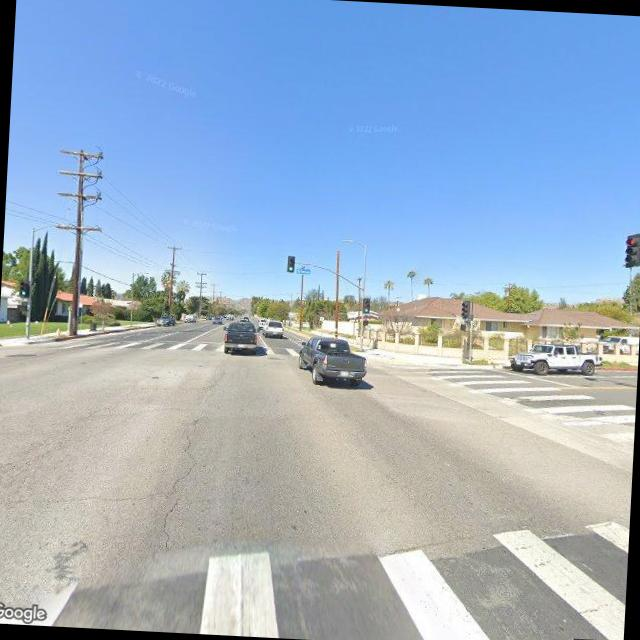crack: (156, 404, 207, 572), (0, 478, 170, 526)
